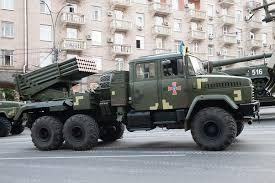MIL_SAM_TEL: (14, 49, 255, 153)
